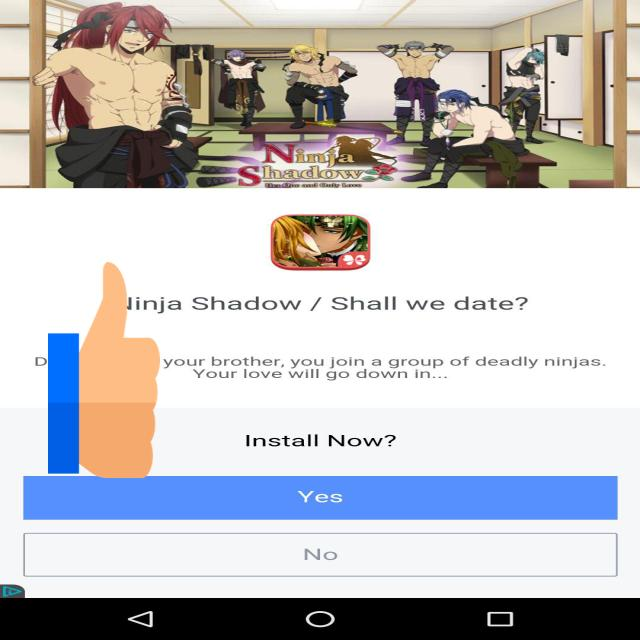privacy zuckering: (48, 257, 160, 483)
